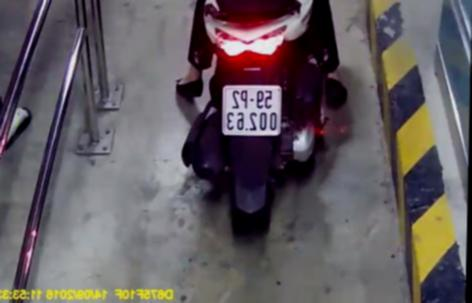License_Plate: (214, 82, 288, 146)
